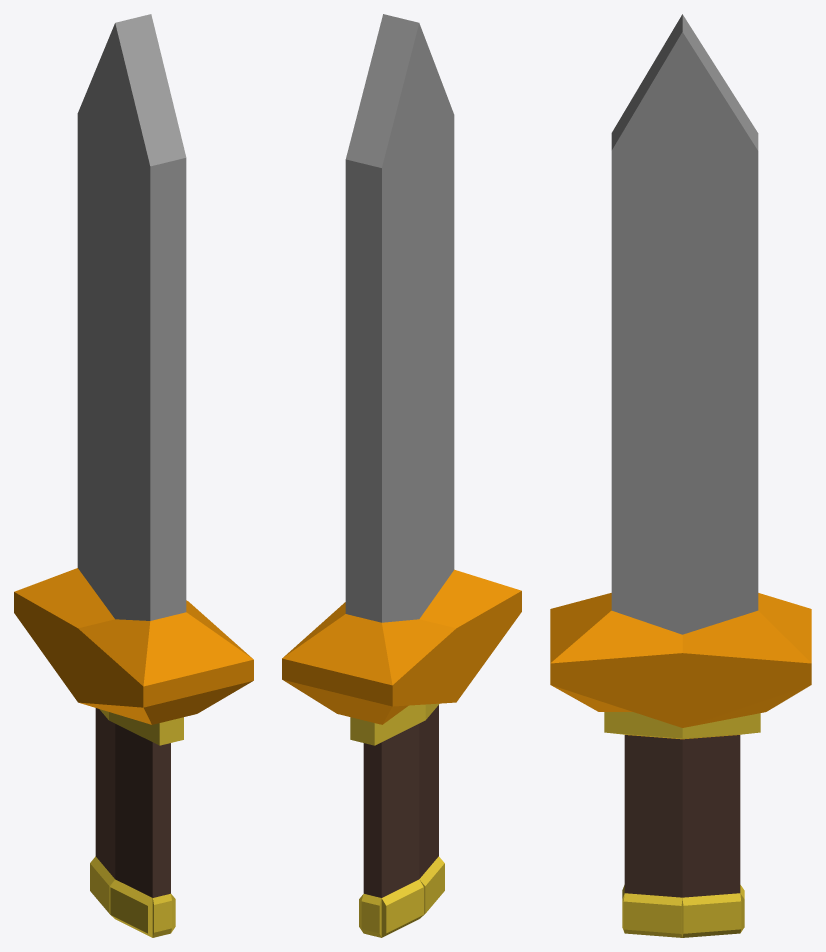
Rendered from small sword.fbx.
3 views of the same model, side by side, from view 1: azimuth 30°, elevation 25°; view 2: azimuth 150°, elevation 25°; view 3: azimuth 270°, elevation 25° (orthographic).
Parts seen in each view (by area): view 1: Cube.003; view 2: Cube.003; view 3: Cube.003.
Boxes of the visible parts, left/top/right/bottom form: Cube.003: left=14, top=14, right=253, bottom=937; Cube.003: left=282, top=14, right=521, bottom=937; Cube.003: left=550, top=14, right=811, bottom=937.
Bounding box in the file's own units: 32.93 × 255 × 66.82.
